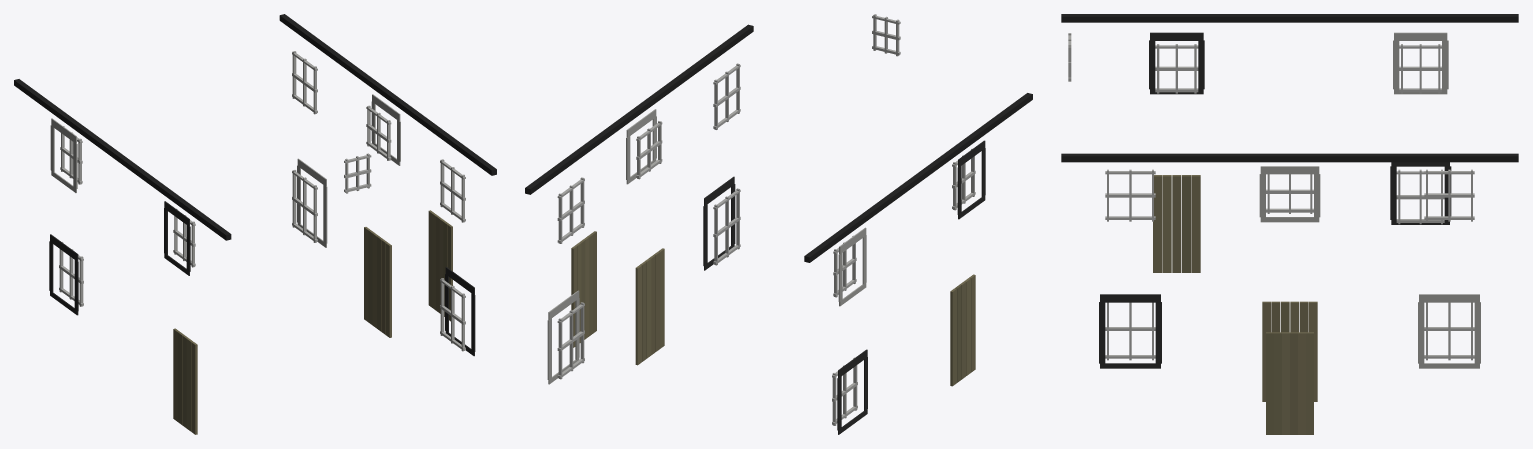
The model's file is SM_Bld_217_Wood.glb.
The picture shows the model from 3 angles, left to right: view 1: azimuth 30°, elevation 25°; view 2: azimuth 150°, elevation 25°; view 3: azimuth 270°, elevation 25°; orthographic projection. The views are drawn at different scales.
Parts seen in each view (by area): view 1: SM_Bld_217_Wood; view 2: SM_Bld_217_Wood; view 3: SM_Bld_217_Wood.
Part boxes in pixels (bbox=[...]): SM_Bld_217_Wood: bbox=[14, 14, 496, 434]; SM_Bld_217_Wood: bbox=[525, 14, 1032, 434]; SM_Bld_217_Wood: bbox=[1061, 14, 1518, 434].
Bounding box in the file's own units: 7.49 × 6.15 × 8.56.
